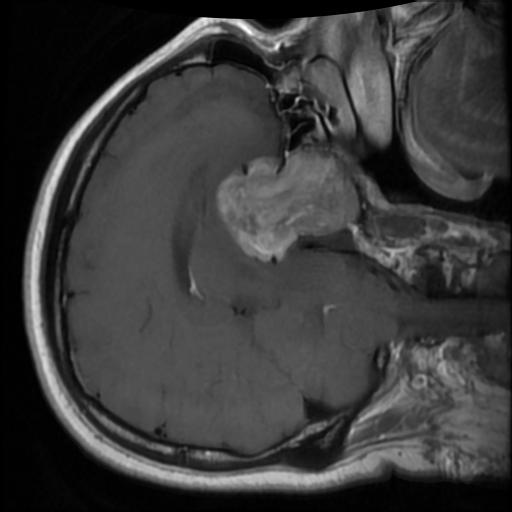pituitary tumour: (215, 150, 357, 259)
